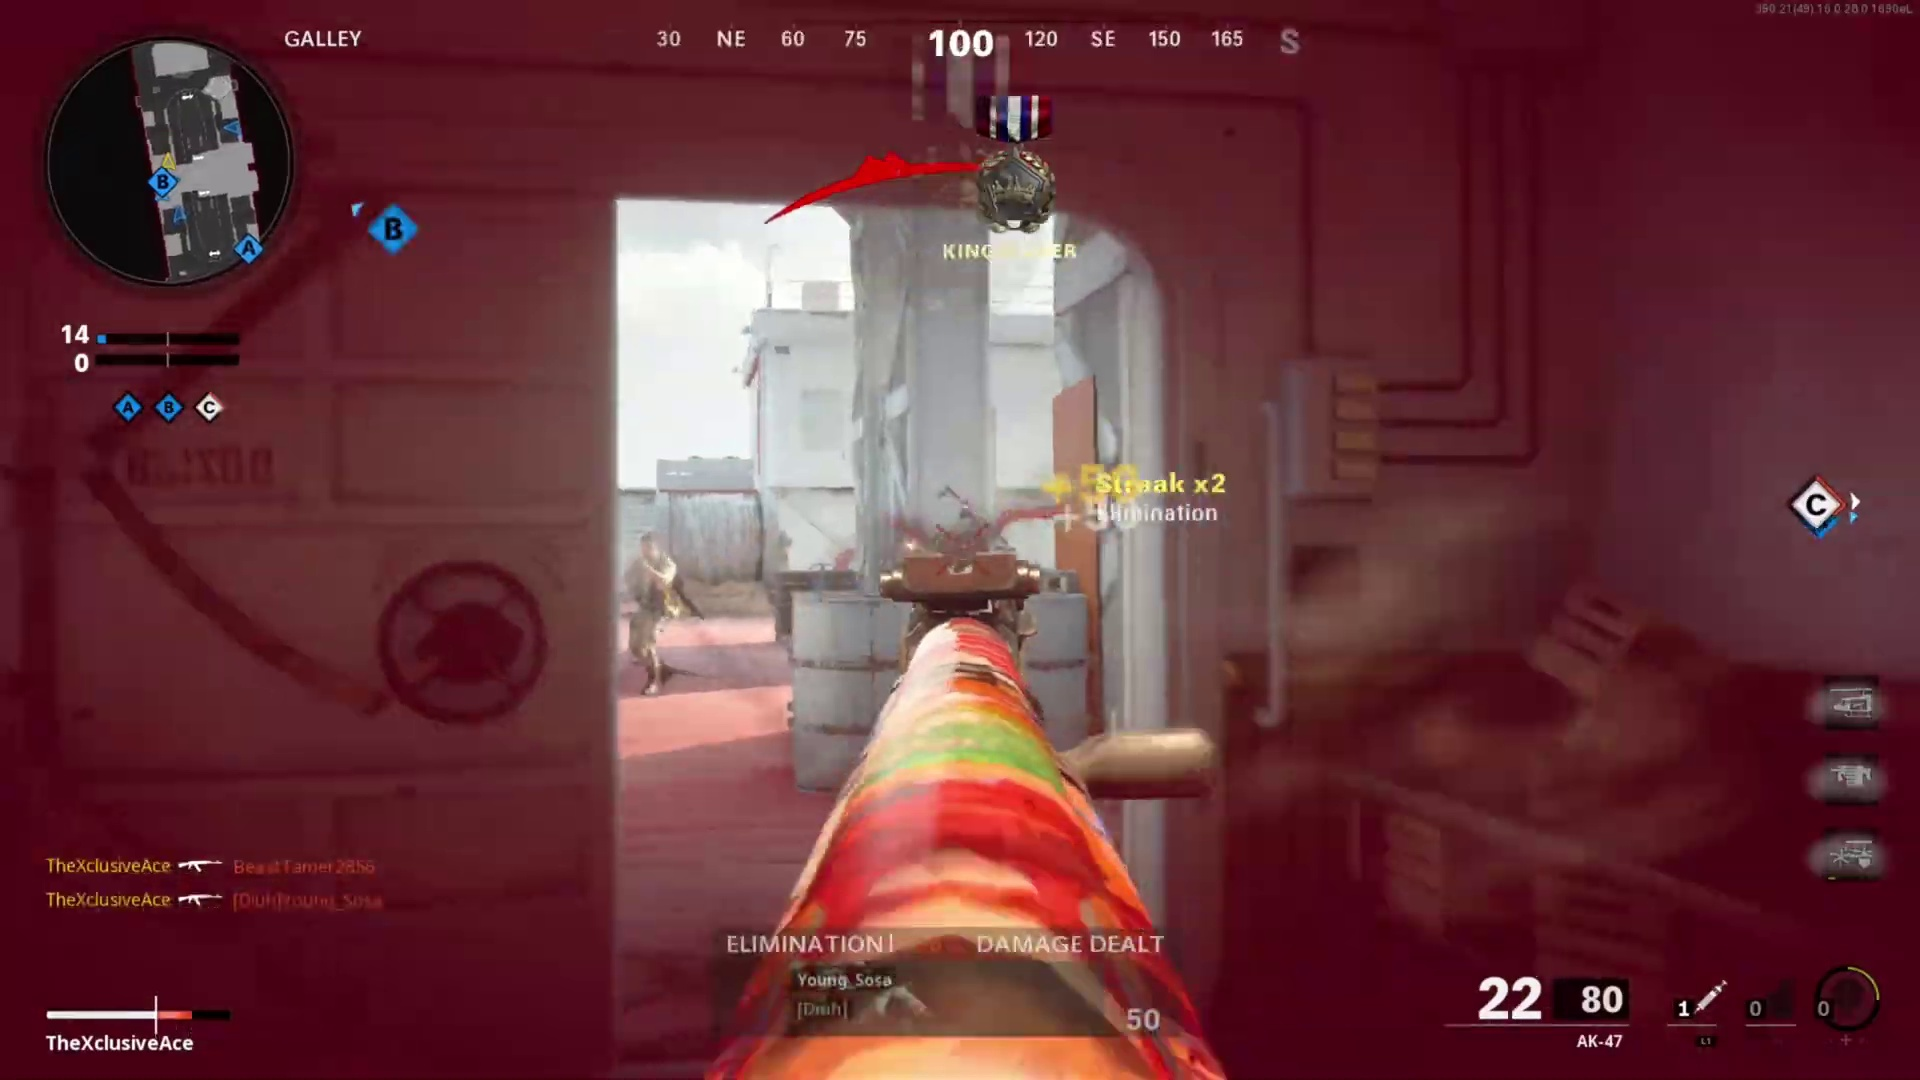head: (633, 526, 667, 572)
person: (622, 529, 700, 700)
